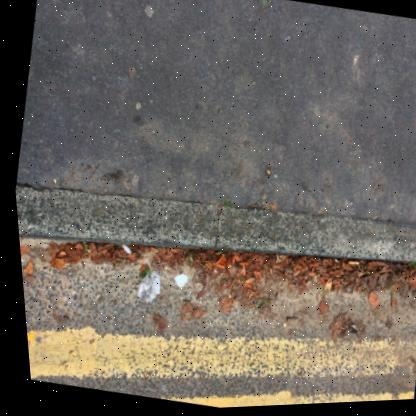Plastic: (132, 271, 155, 304)
Waste: (169, 274, 183, 287), (343, 263, 354, 267)
